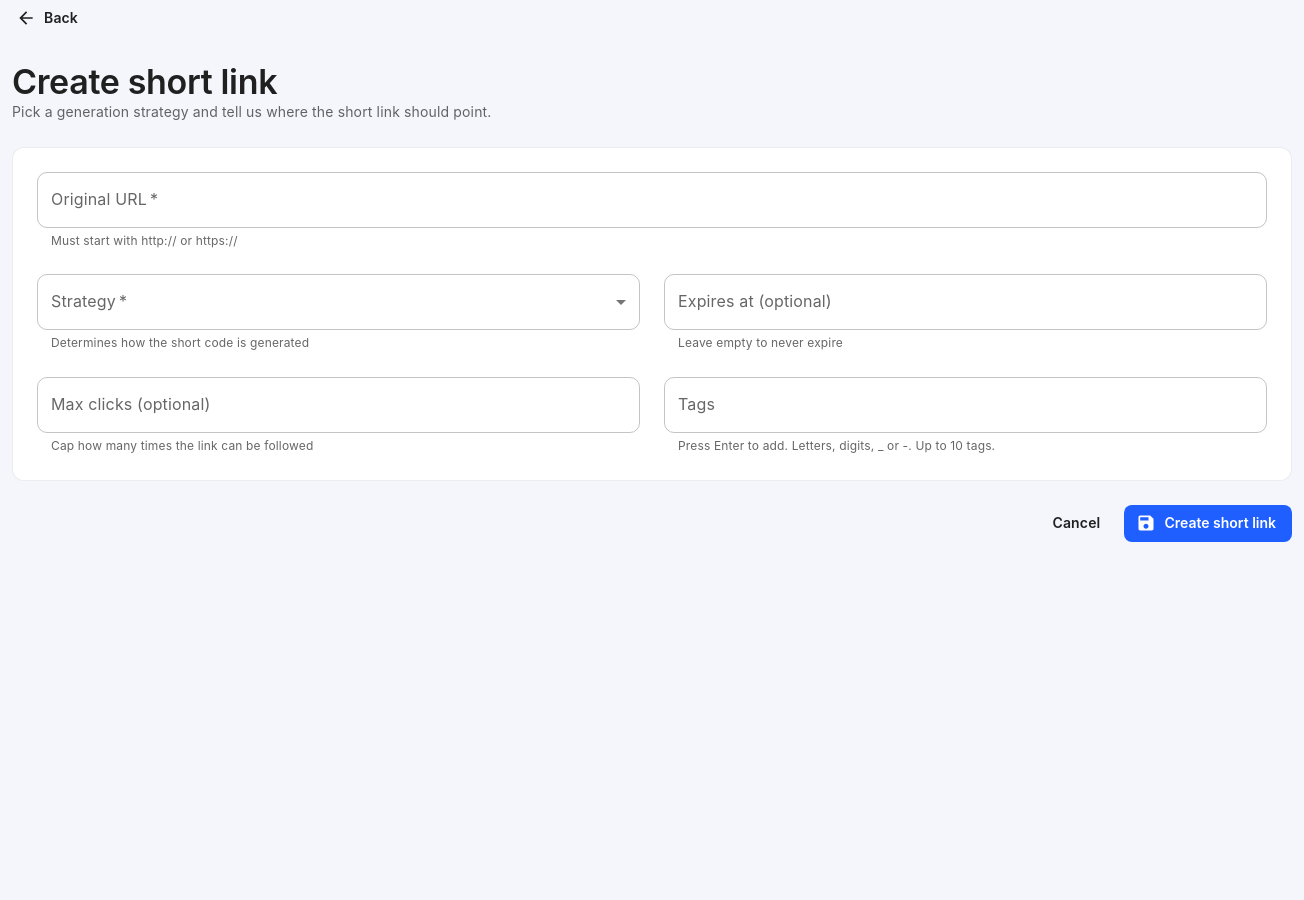
Test case: <ShortLinkFormPage> — create flow › shows server-side inline error when alias is already taken
Type "https://example.com" into the field labelled "Original URL *" at (652, 200), box [37, 172, 1267, 228]
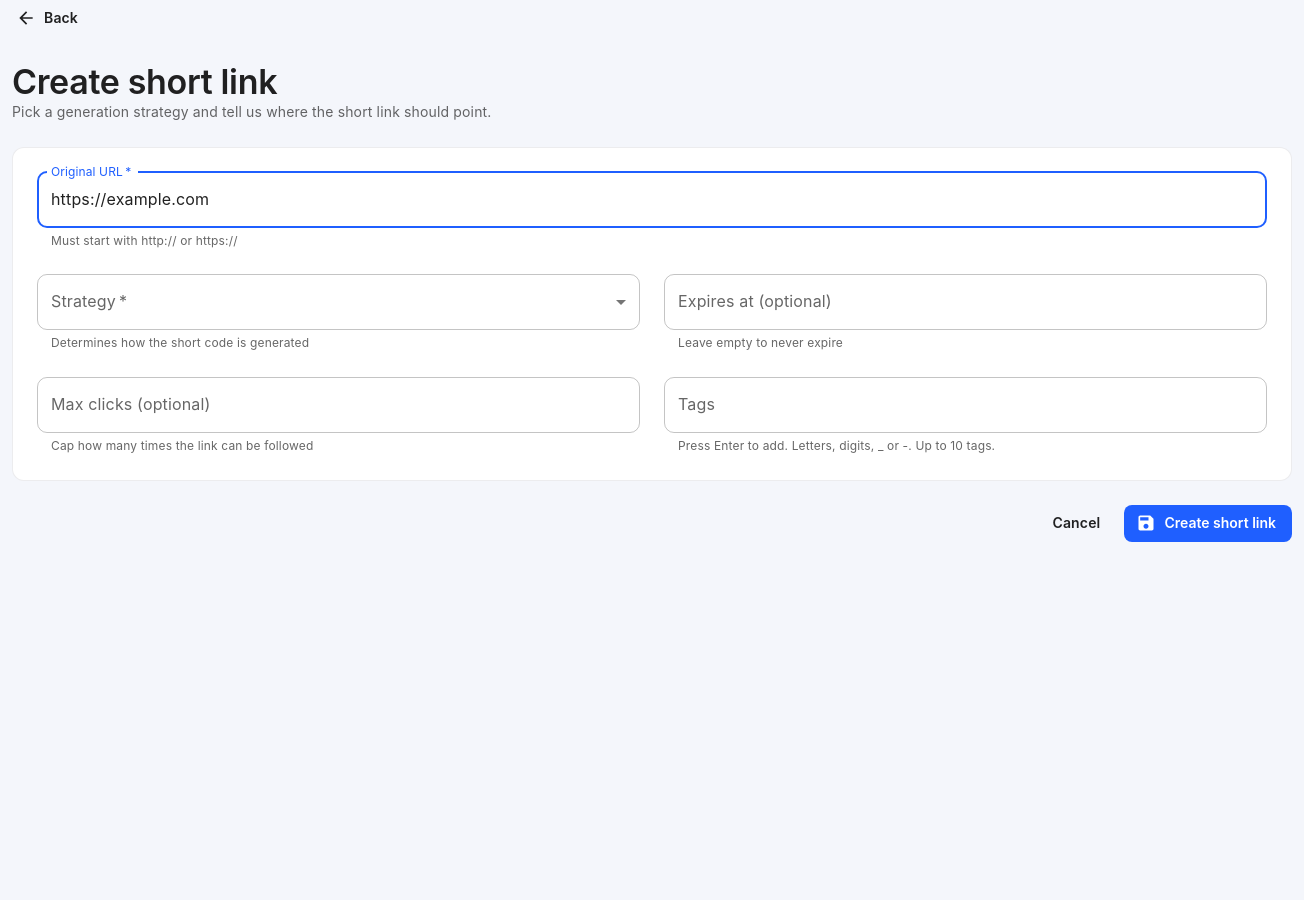
Click the 1st dropdown at (338, 302), box [37, 274, 640, 330]
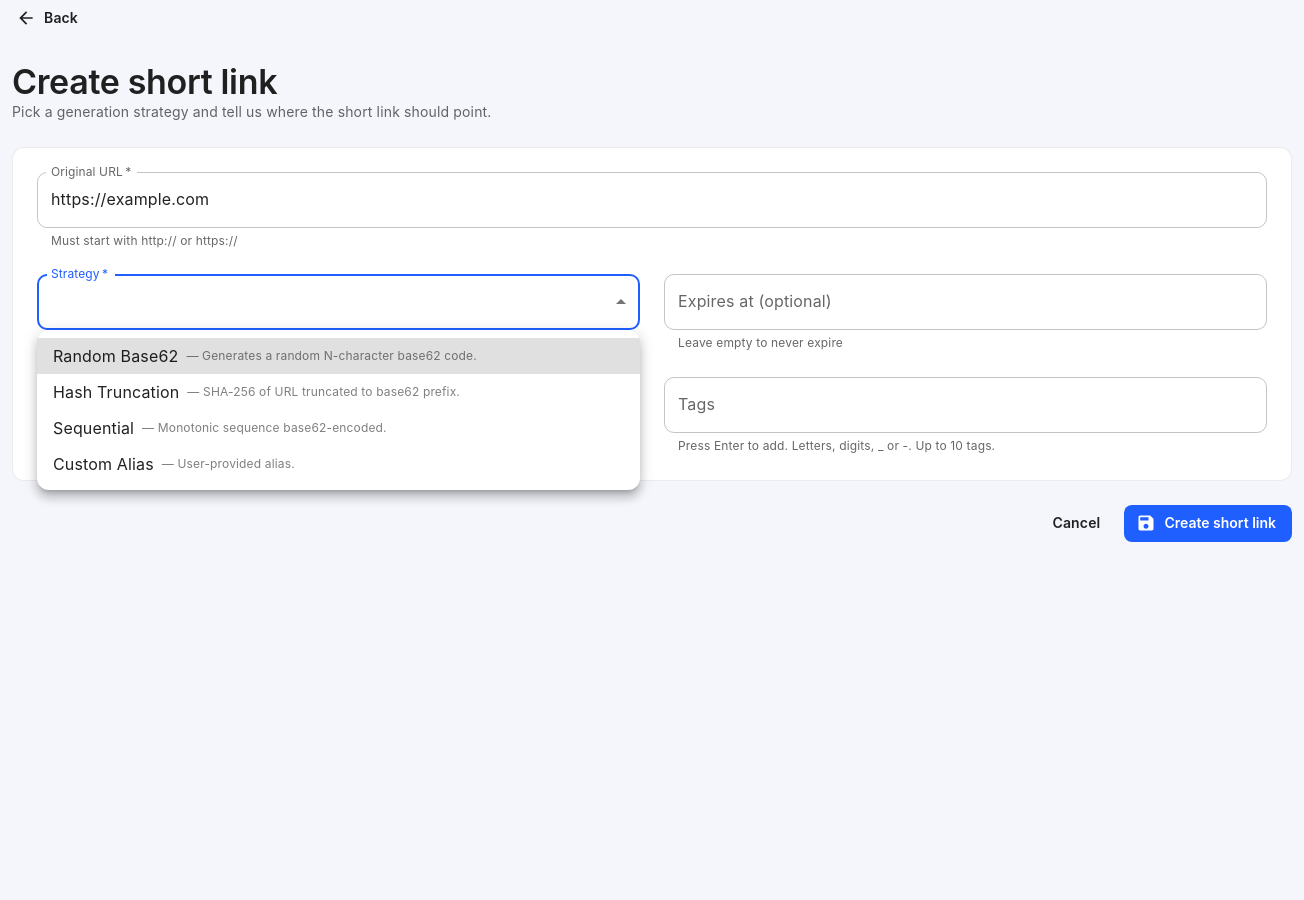
Click the option "Custom Alias — User-provided alias." at (174, 464), box [53, 454, 295, 474]
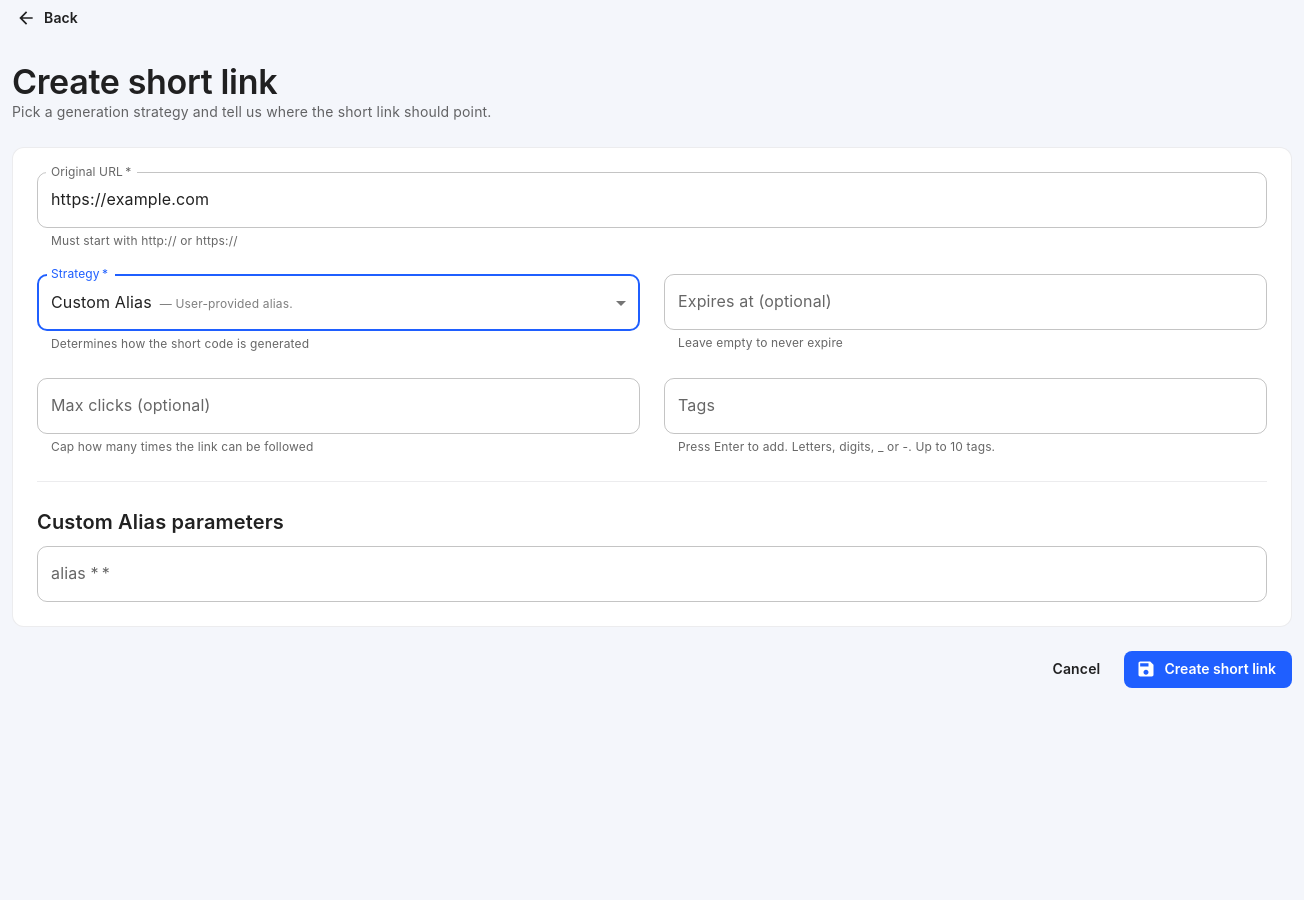
Type "taken" into the field labelled "alias * *" at (652, 574), box [37, 546, 1267, 602]
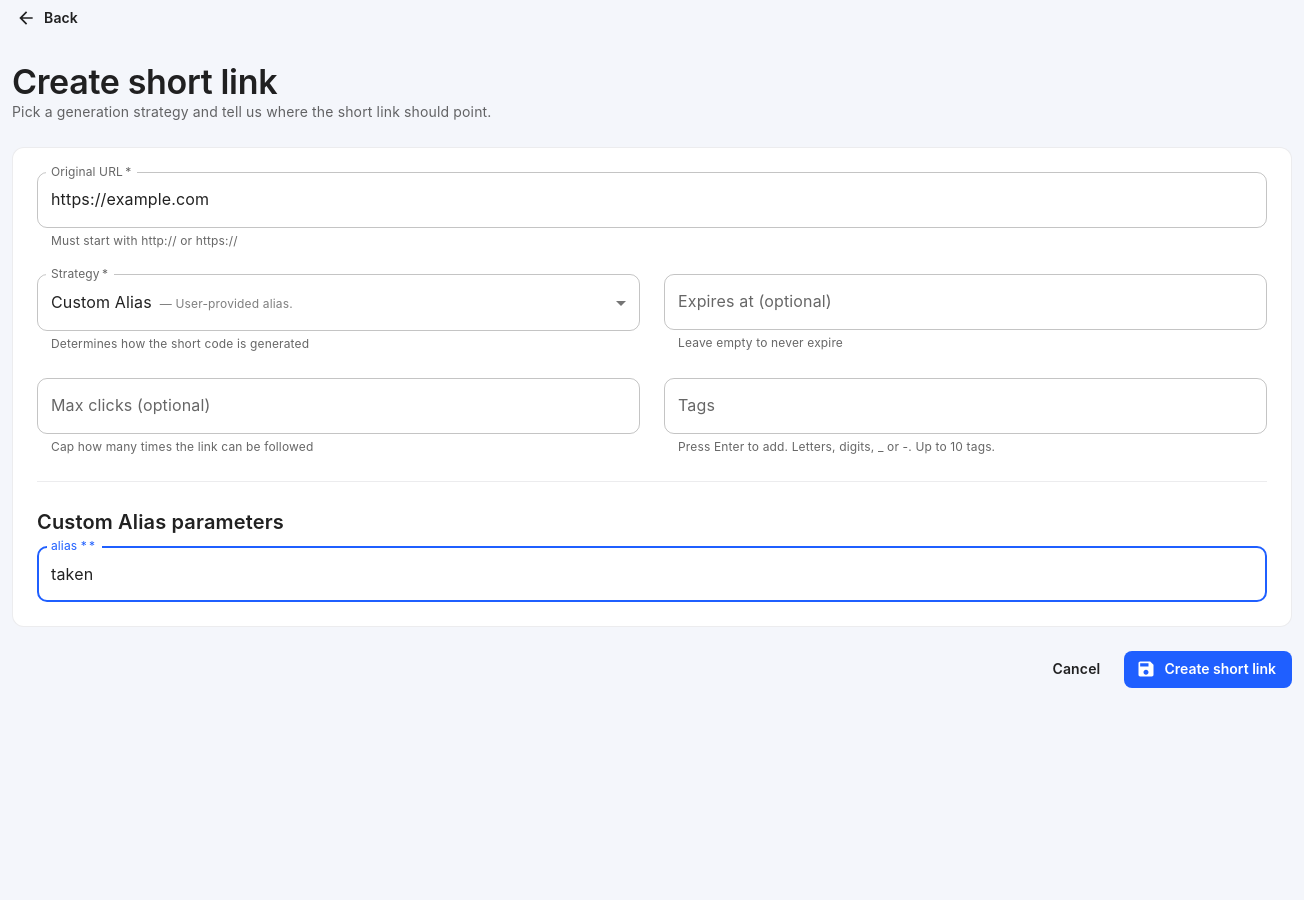
Click the button "Create short link" at (1208, 669), box [1124, 651, 1292, 688]
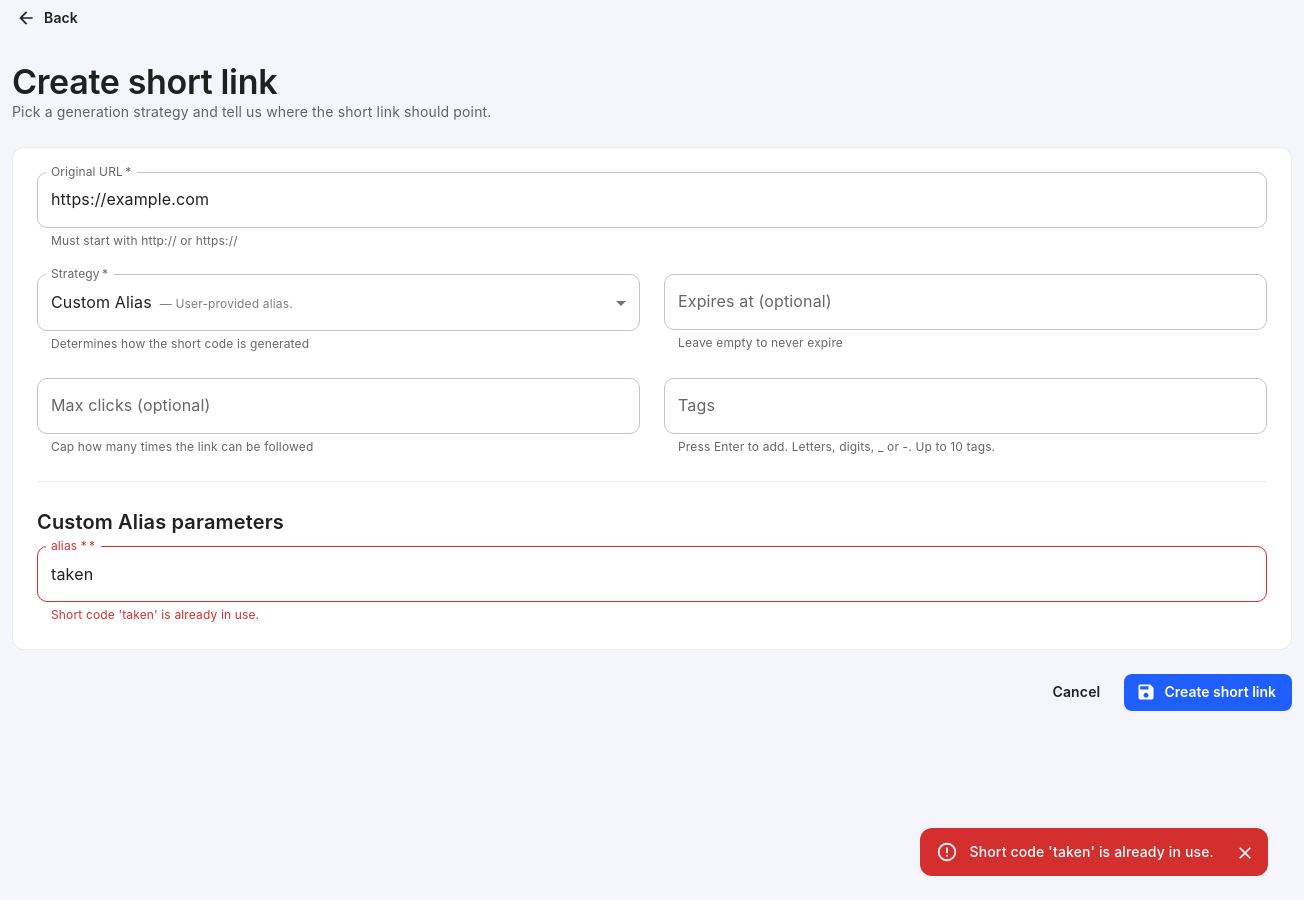
Expected: the text "Short code 'taken' is already in use." below "alias *" is shown, [51, 607, 259, 622]
